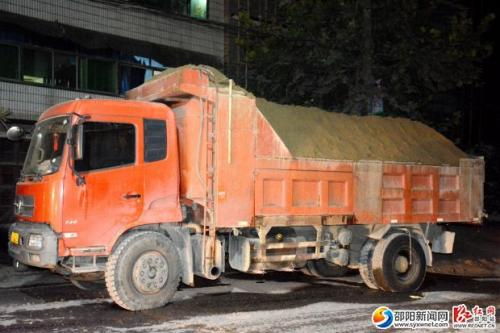chaozhai: (6, 64, 489, 311)
